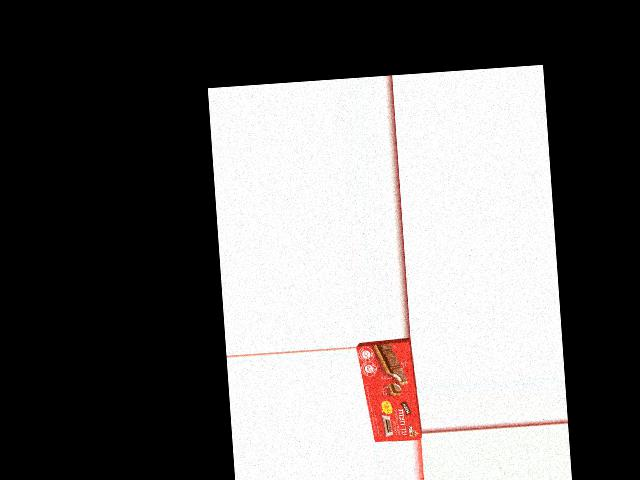chocolate: (362, 338, 418, 444)
